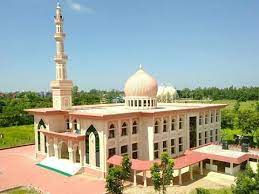Mosque: (33, 1, 231, 171)
